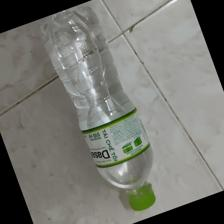Dasani: (38, 5, 161, 212)
